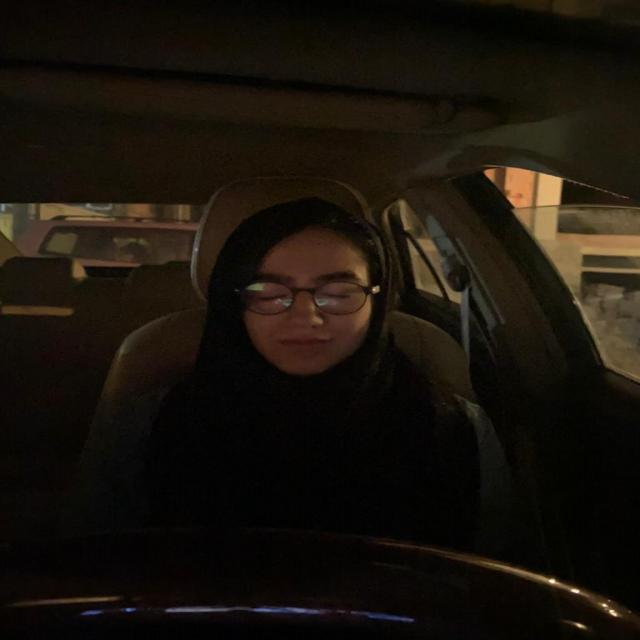drowsy: (208, 189, 396, 391)
